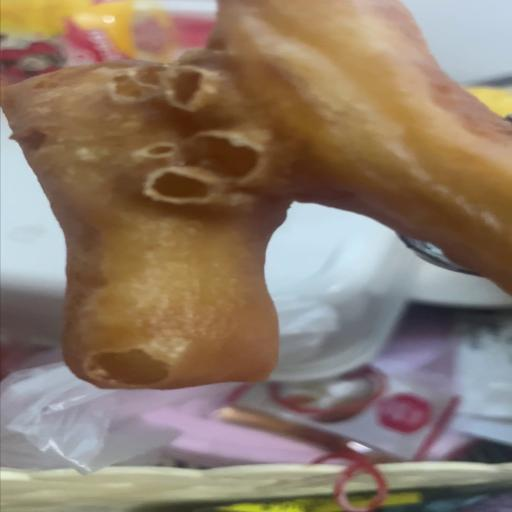street_burnt_defect: (5, 0, 510, 387)
